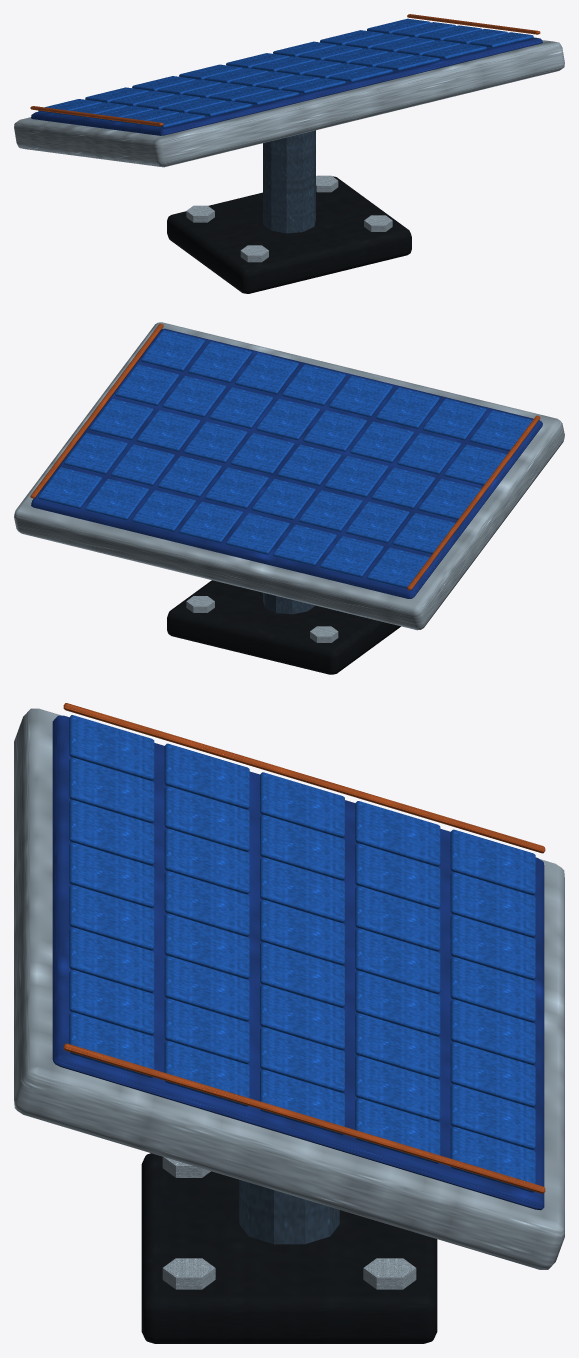
The model's file is placa-solar.glb.
3 renders of one model, top to bottom at view 1: azimuth 30°, elevation 25°; view 2: azimuth 150°, elevation 25°; view 3: azimuth 270°, elevation 25°, orthographic. The views are drawn at different scales.
Visible parts, largest first — view 1: Chumbador.004, Célula de silício.040, Plinto de ancoragem.001, Coluna pivotante.001, Vidro laminado azul.001, Eixo inclinável.001; view 2: Célula de silício.040, Chumbador.004, Vidro laminado azul.001, Plinto de ancoragem.001, Eixo inclinável.001, Coluna pivotante.001; view 3: Célula de silício.040, Chumbador.004, Plinto de ancoragem.001, Vidro laminado azul.001, Eixo inclinável.001, Coluna pivotante.001.
Part boxes in pixels (x1=…): Chumbador.004: x1=14, y1=40, x2=564, y2=262; Célula de silício.040: x1=38, y1=18, x2=533, y2=128; Plinto de ancoragem.001: x1=167, y1=176, x2=411, y2=293; Coluna pivotante.001: x1=263, y1=130, x2=315, y2=233; Vidro laminado azul.001: x1=31, y1=37, x2=542, y2=135; Eixo inclinável.001: x1=30, y1=14, x2=540, y2=126; Célula de silício.040: x1=38, y1=330, x2=532, y2=588; Chumbador.004: x1=14, y1=322, x2=564, y2=642; Vidro laminado azul.001: x1=31, y1=328, x2=542, y2=598; Plinto de ancoragem.001: x1=167, y1=580, x2=400, y2=674; Eixo inclinável.001: x1=30, y1=323, x2=540, y2=590; Coluna pivotante.001: x1=263, y1=592, x2=315, y2=614; Célula de silício.040: x1=69, y1=715, x2=535, y2=1192; Chumbador.004: x1=14, y1=708, x2=564, y2=1289; Plinto de ancoragem.001: x1=141, y1=1153, x2=437, y2=1343; Vidro laminado azul.001: x1=52, y1=715, x2=544, y2=1210; Eixo inclinável.001: x1=63, y1=703, x2=545, y2=1193; Coluna pivotante.001: x1=239, y1=1180, x2=339, y2=1244.
Bounding box in the file's own units: 1.65 × 0.8302 × 1.04.
6 materials, 6 textured.
